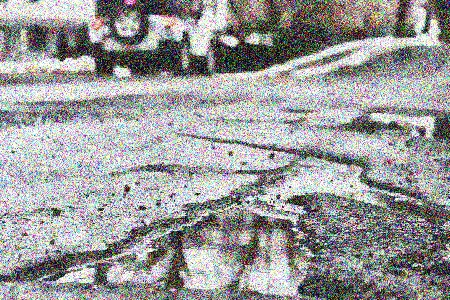pothole: (28, 194, 318, 296), (257, 149, 450, 228), (340, 106, 450, 141)
